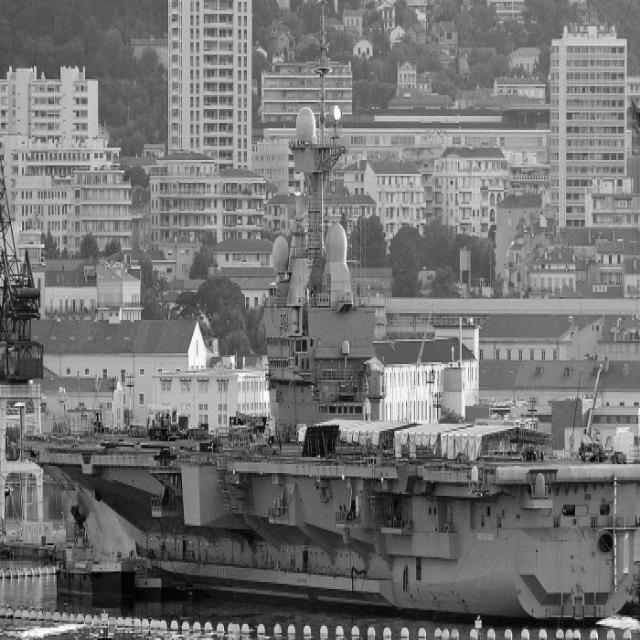Portanaves: (17, 1, 640, 620)
